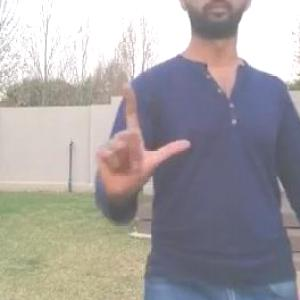land_hand: (88, 75, 195, 207)
